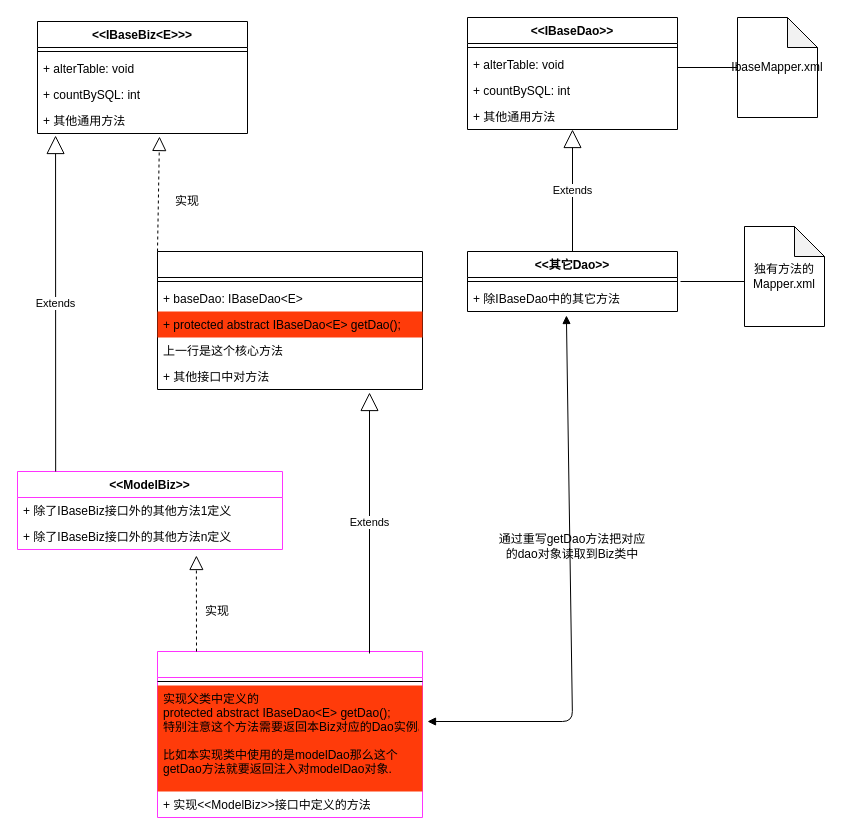
This 842x838 diagram has some shape labels left out. Each missing label, with the box of its shape:
BaseBizImpl: (156, 250, 422, 390)
ModelBizImpl: (156, 650, 422, 818)
